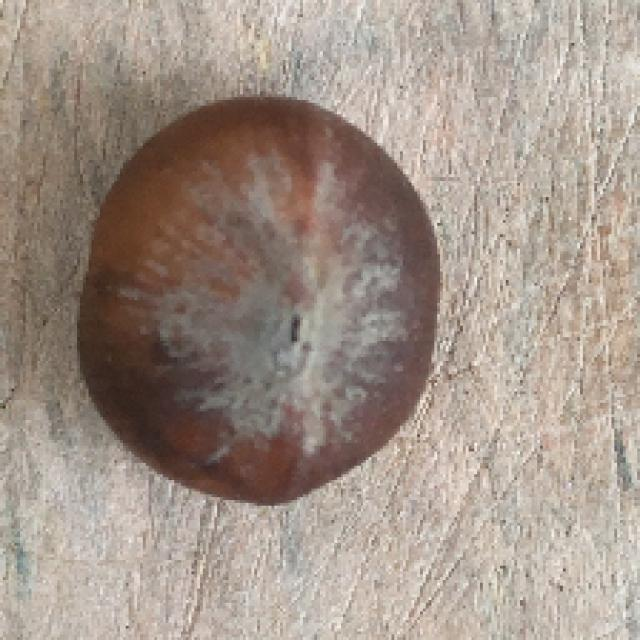qualityHazelnut: (77, 89, 443, 508)
